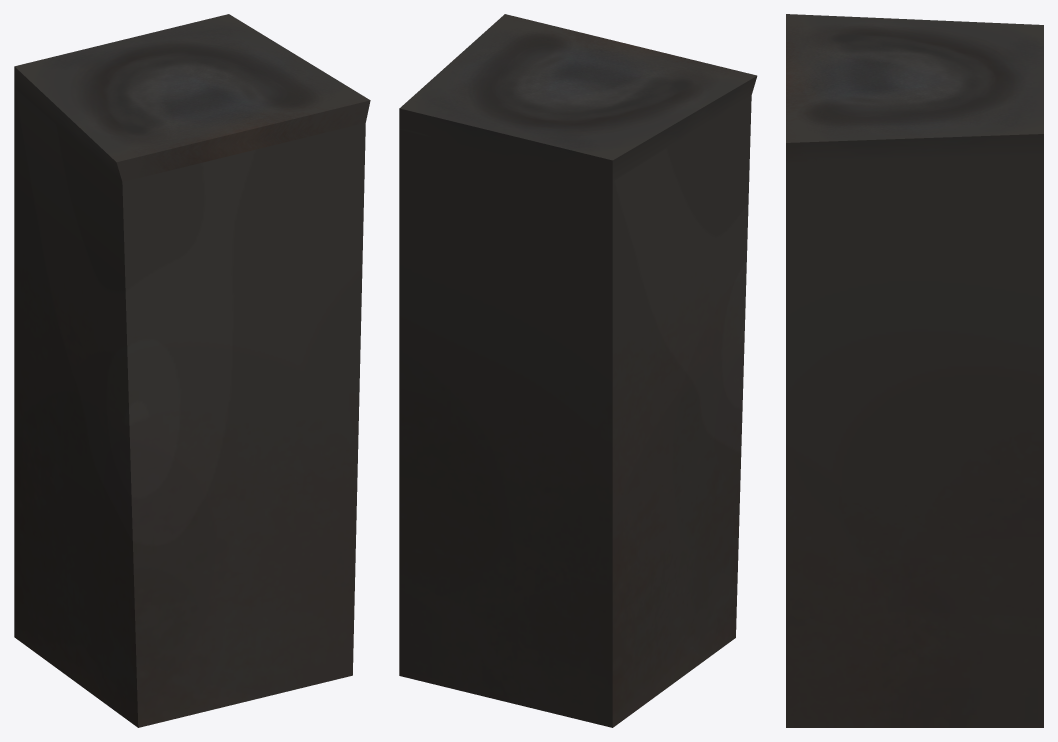
The model's file is Tomb_Floor.fbx.
3 views of the same model, side by side, from view 1: azimuth 30°, elevation 25°; view 2: azimuth 150°, elevation 25°; view 3: azimuth 270°, elevation 25° (orthographic). The views are drawn at different scales.
Visible parts, largest first — view 1: Tomb_Floor; view 2: Tomb_Floor; view 3: Tomb_Floor.
Boxes of the visible parts, x1,y1,x2,y2 form: Tomb_Floor: [14, 14, 370, 727]; Tomb_Floor: [399, 14, 757, 727]; Tomb_Floor: [786, 14, 1043, 727].
Size of the model in its own units: 4007 by 8604 by 3384.
